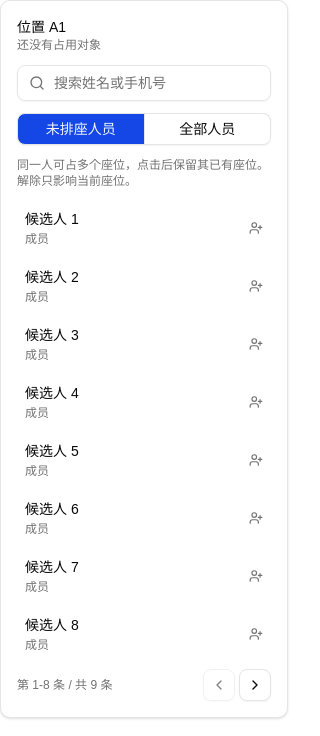
Test case: SeatAssignPanel › 每页显示八名候选人，并可翻到下一页
The image size is (320, 736).
Expected: the text "候选人 1" is shown, [25, 209, 79, 229]
Expected: the text "候选人 9" is not shown
Click the button named "下一页".
click(255, 685)  # box [239, 669, 271, 701]
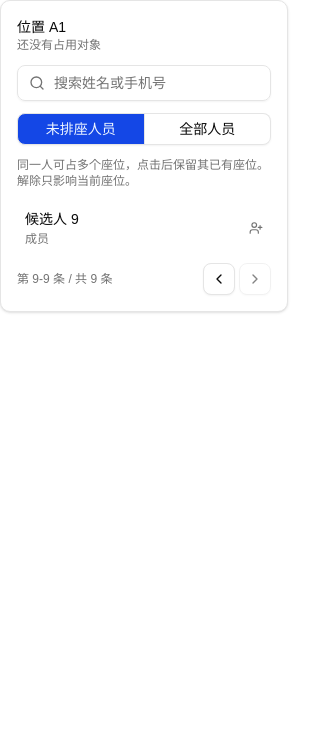
Expected: the button "候选人 1" is gone
Expected: the text "候选人 9" is shown, [25, 209, 79, 229]
Expected: the text "第 9-9 条 / 共 9 条" is shown, [17, 271, 112, 287]
